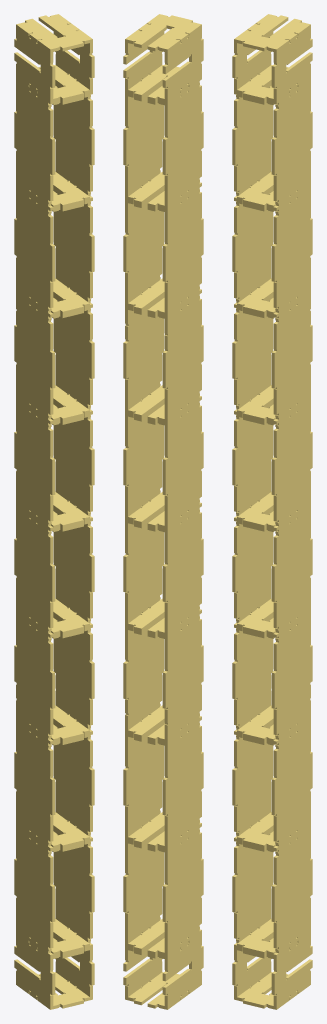
Rendered from BLK-A.gltf.
3 views of the same model, side by side, from view 1: azimuth 30°, elevation 25°; view 2: azimuth 150°, elevation 25°; view 3: azimuth 330°, elevation 25° (orthographic).
Parts seen in each view (by area): view 1: mesh81_meshnode_81 (×2), mesh251_meshnode_251 (×2), mesh429_meshnode_429 (×2), mesh44_meshnode_44 (×11); view 2: mesh81_meshnode_81 (×2), mesh251_meshnode_251 (×2), mesh429_meshnode_429 (×2), mesh44_meshnode_44 (×11), mesh61_meshnode_61, mesh151_meshnode_151, mesh282_meshnode_282, mesh460_meshnode_460, mesh88_meshnode_88; view 3: mesh80_meshnode_80 (×2), mesh250_meshnode_250 (×2), mesh428_meshnode_428 (×2), mesh44_meshnode_44 (×11).
Boxes of the visible parts, left/top/right/bottom form: mesh81_meshnode_81 (×2): left=14, top=328, right=91, bottom=696; mesh251_meshnode_251 (×2): left=14, top=654, right=91, bottom=1009; mesh429_meshnode_429 (×2): left=14, top=24, right=91, bottom=370; mesh44_meshnode_44 (×11): left=19, top=14, right=89, bottom=1005; mesh81_meshnode_81 (×2): left=126, top=328, right=203, bottom=696; mesh251_meshnode_251 (×2): left=126, top=654, right=203, bottom=1009; mesh429_meshnode_429 (×2): left=126, top=24, right=203, bottom=370; mesh44_meshnode_44 (×11): left=128, top=14, right=198, bottom=1005; mesh61_meshnode_61: left=164, top=602, right=167, bottom=669; mesh151_meshnode_151: left=164, top=389, right=167, bottom=456; mesh282_meshnode_282: left=164, top=816, right=167, bottom=883; mesh460_meshnode_460: left=164, top=175, right=167, bottom=242; mesh88_meshnode_88: left=164, top=495, right=167, bottom=562; mesh80_meshnode_80 (×2): left=235, top=328, right=312, bottom=696; mesh250_meshnode_250 (×2): left=235, top=654, right=312, bottom=1009; mesh428_meshnode_428 (×2): left=235, top=24, right=312, bottom=370; mesh44_meshnode_44 (×11): left=237, top=14, right=307, bottom=1005.
Bounding box in the file's own units: 0.25 × 5.4 × 0.386.
